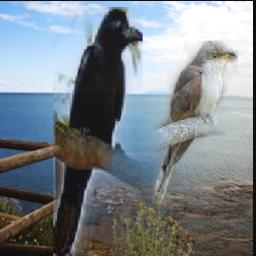Crow: (52, 8, 142, 256)
Cuckoo: (152, 42, 237, 205)
